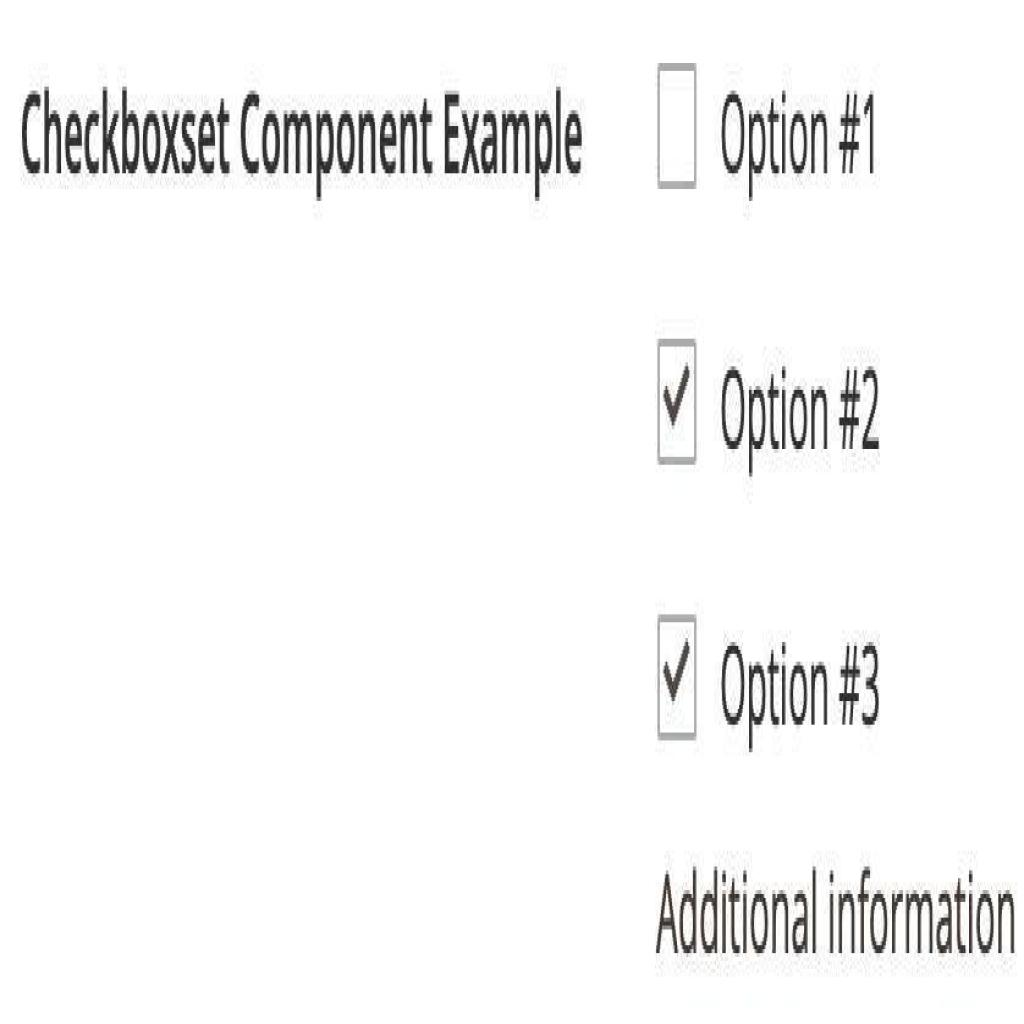checkbox: (658, 614, 696, 744), (658, 63, 696, 189), (658, 338, 696, 464)
label: (20, 63, 592, 209), (721, 626, 886, 756), (721, 83, 887, 205), (717, 354, 890, 465)
